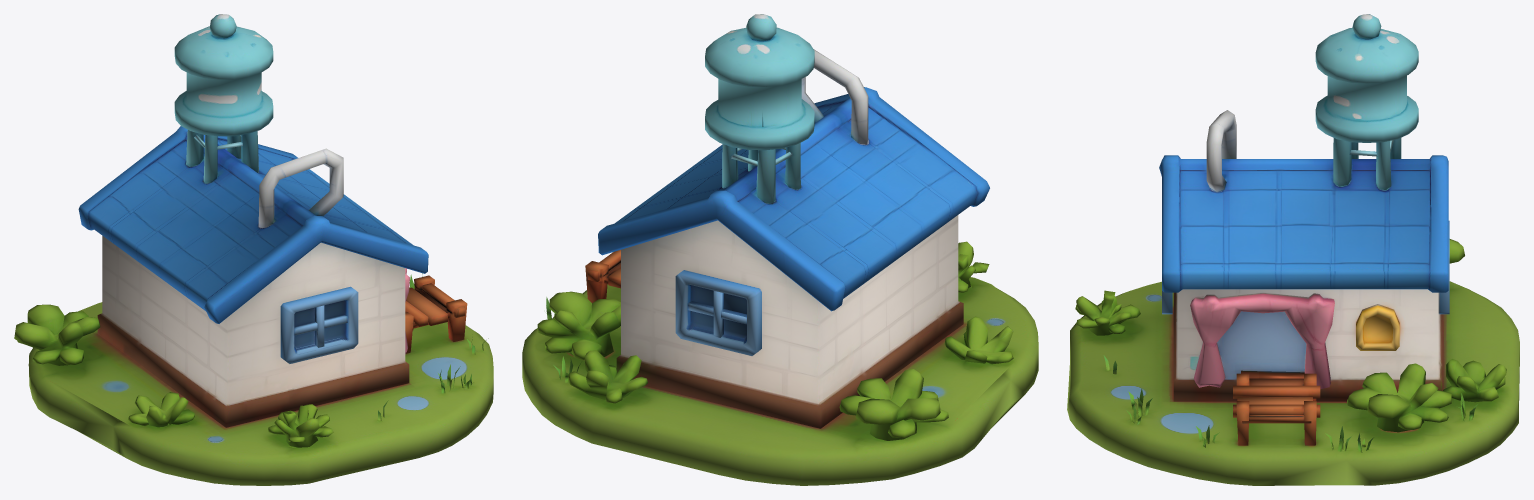
The model's file is duchas_2.glb.
3 renders of one model, left to right at view 1: azimuth 30°, elevation 25°; view 2: azimuth 150°, elevation 25°; view 3: azimuth 270°, elevation 25°, orthographic. The views are drawn at different scales.
Parts seen in each view (by area): view 1: tripo_node_9ca8b31e-3979-463a-b419-dd4768df5f63; view 2: tripo_node_9ca8b31e-3979-463a-b419-dd4768df5f63; view 3: tripo_node_9ca8b31e-3979-463a-b419-dd4768df5f63.
Boxes of the visible parts, x1,y1,x2,y2 form: tripo_node_9ca8b31e-3979-463a-b419-dd4768df5f63: [14, 14, 493, 485]; tripo_node_9ca8b31e-3979-463a-b419-dd4768df5f63: [522, 14, 1038, 485]; tripo_node_9ca8b31e-3979-463a-b419-dd4768df5f63: [1067, 14, 1519, 485].
Size of the model in its own units: 0.998 by 0.8691 by 0.9707.
Materials: 1 (1 with a texture image).
